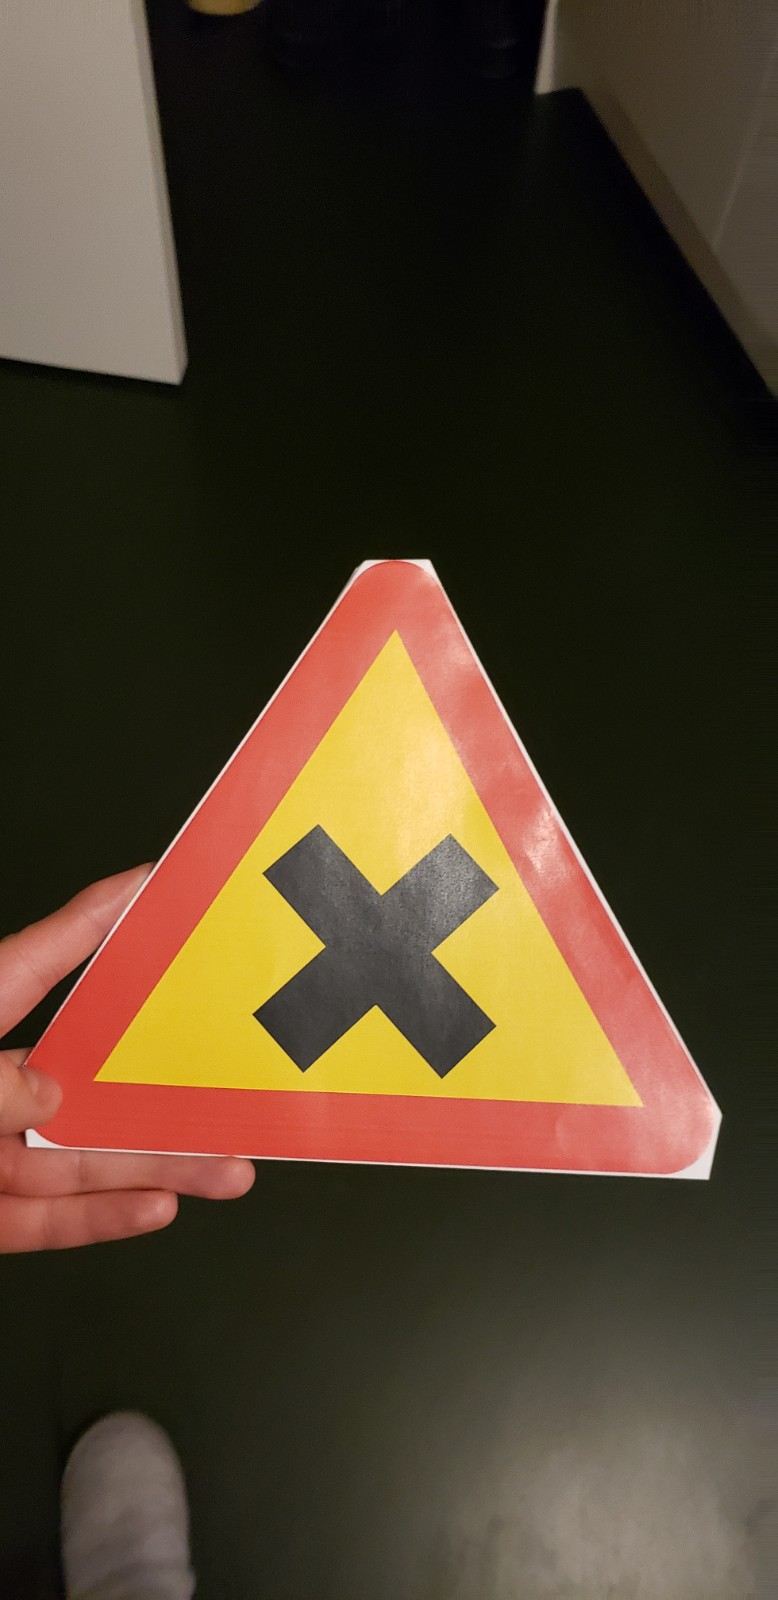junction: (35, 510, 763, 1237)
